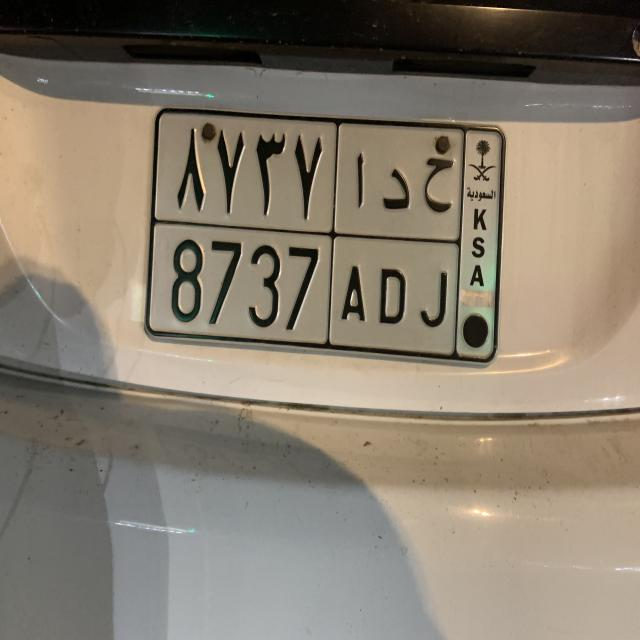license_plate: (141, 100, 509, 380)
